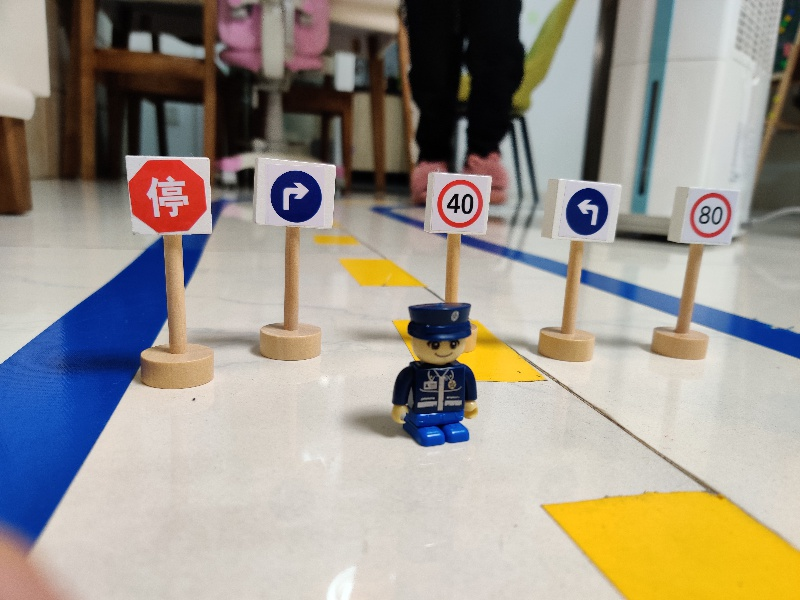limit_40: (423, 171, 494, 238)
limit_80: (667, 184, 743, 245)
person: (386, 299, 484, 450)
stop: (117, 151, 217, 240)
turn_left: (541, 175, 626, 245)
turn_right: (243, 152, 339, 234)
